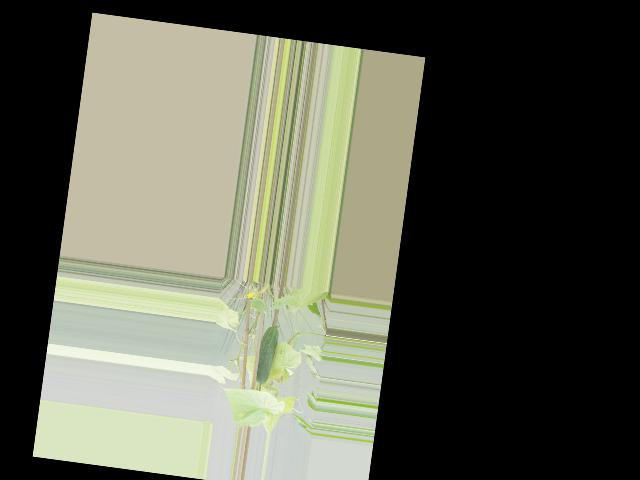cucumber: (254, 324, 280, 385)
